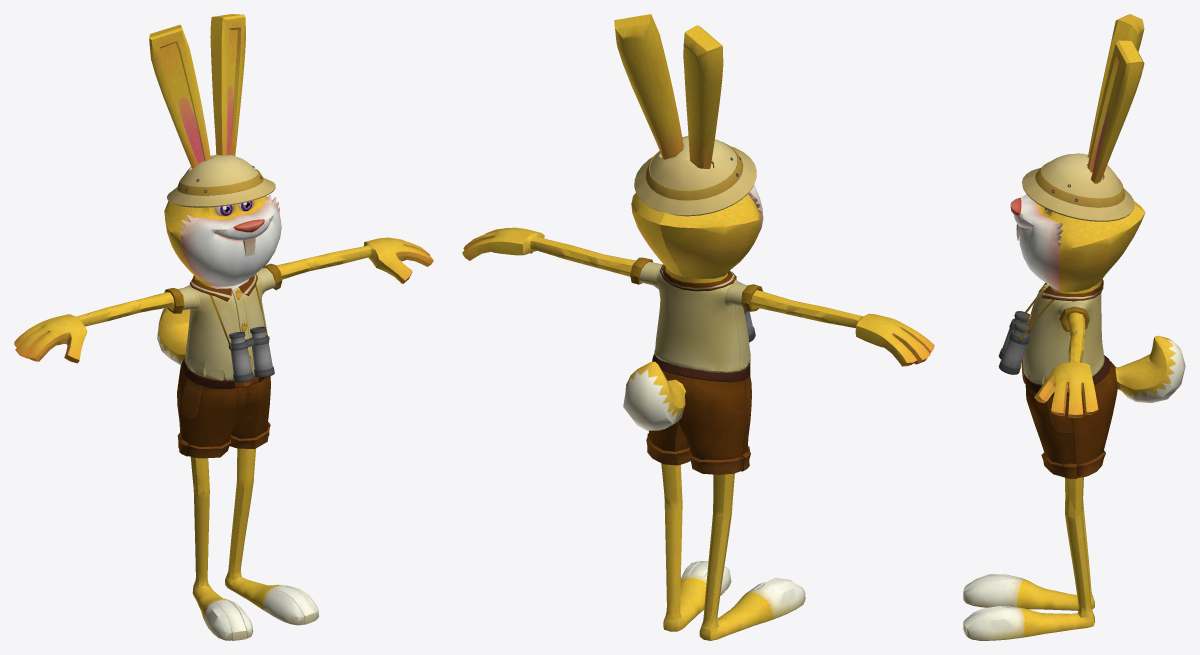
The model's file is luobotu.glb.
3 renders of one model, left to right at view 1: azimuth 30°, elevation 25°; view 2: azimuth 150°, elevation 25°; view 3: azimuth 270°, elevation 25°, orthographic. The views are drawn at different scales.
Visible parts, largest first — view 1: Object_2; view 2: Object_2; view 3: Object_2.
Part boxes in pixels (x1,y1,x2,y2): Object_2: (14, 14, 433, 640); Object_2: (462, 14, 934, 640); Object_2: (963, 14, 1185, 640).
Bounding box in the file's own units: 0.0777 × 0.1006 × 0.0346.
1 material, 1 textured.
